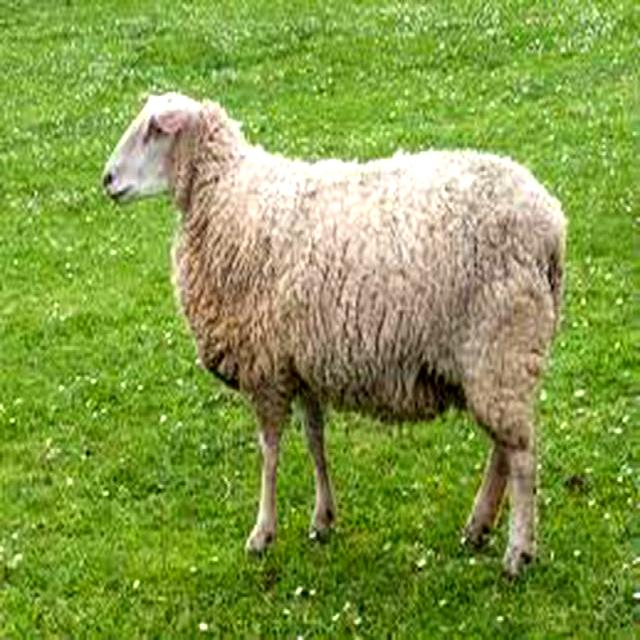sheep: (101, 91, 563, 572)
